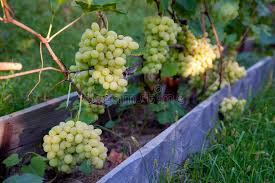grapes: (80, 24, 140, 98), (39, 119, 116, 175), (181, 19, 224, 78), (142, 12, 171, 75)
